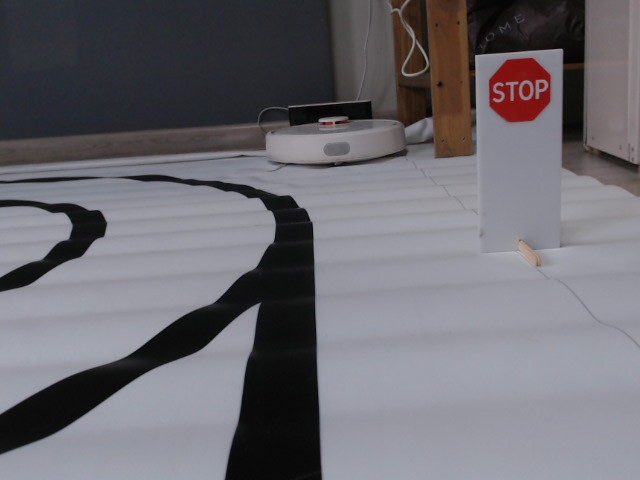Stop: (487, 57, 552, 124)
